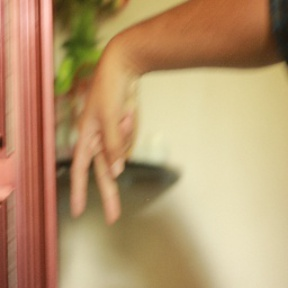Y: (66, 78, 137, 228)
